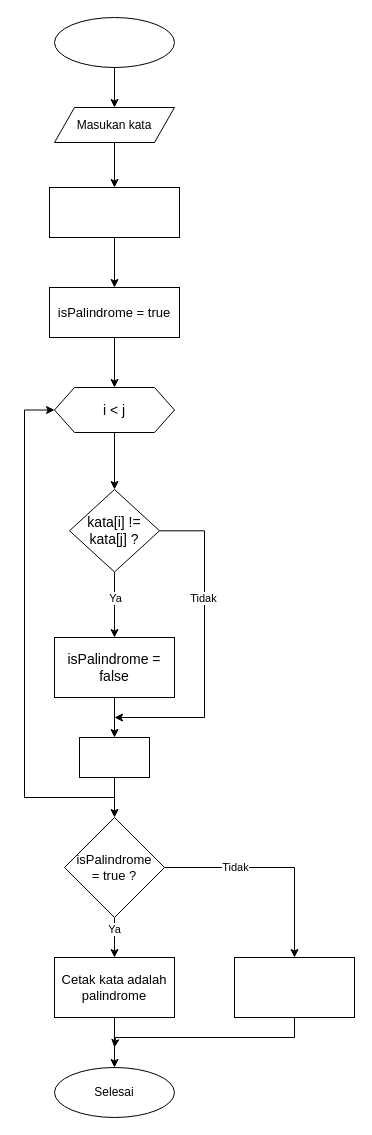
Image size: 372x1135. Some labels were removed from this diagram. The shapes that lost their labels are listed below. From the top down, each one's box as (x1, y1, x2, y2) in pixels, then its label:
(54, 16, 174, 68): Mulai
(48, 186, 180, 238): i = 0 j = length.kata - 1
(78, 736, 150, 778): i = i + 1 j = j - 1
(234, 956, 354, 1018): Cetak kata bukan palindrome
